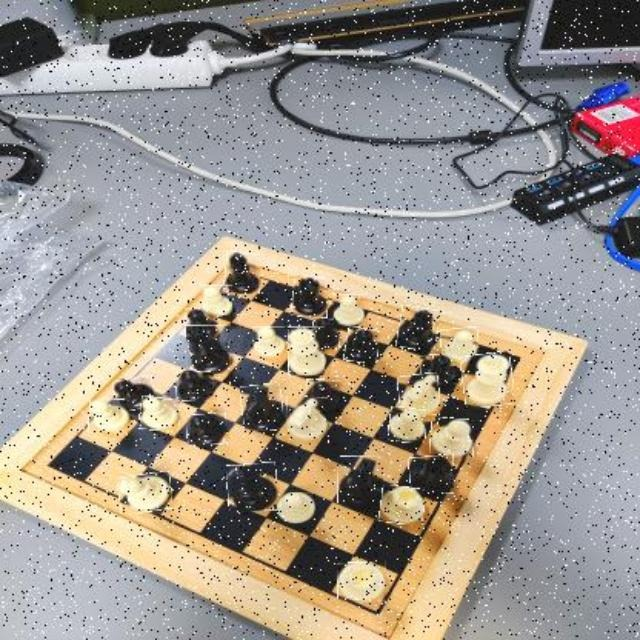black-bishop: (397, 306, 438, 349), (224, 252, 260, 294)
black-king: (227, 462, 277, 511)
black-knight: (339, 457, 385, 507), (240, 384, 283, 431)
black-pawn: (114, 377, 155, 410), (188, 413, 228, 445), (421, 354, 459, 386), (177, 370, 215, 402), (345, 329, 379, 363), (306, 380, 342, 412), (184, 309, 219, 339), (312, 318, 340, 350)
black-queen: (187, 325, 233, 375)
black-rook: (409, 455, 455, 495), (292, 276, 328, 317)
white-bishop: (120, 473, 172, 514), (430, 418, 474, 458)
white-king: (462, 352, 514, 407)
white-knight: (286, 396, 329, 439), (398, 374, 441, 416)
white-pawn: (88, 400, 131, 433), (441, 327, 479, 363), (389, 408, 427, 444), (140, 398, 180, 432), (277, 492, 317, 524), (200, 285, 233, 317), (332, 294, 365, 326), (253, 326, 286, 358)
white-queen: (288, 327, 326, 377)
white-rook: (339, 562, 387, 603), (380, 486, 426, 526)
